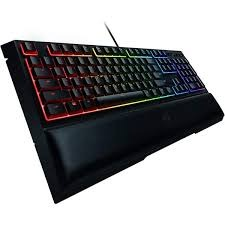keyboard: (1, 35, 225, 198)
